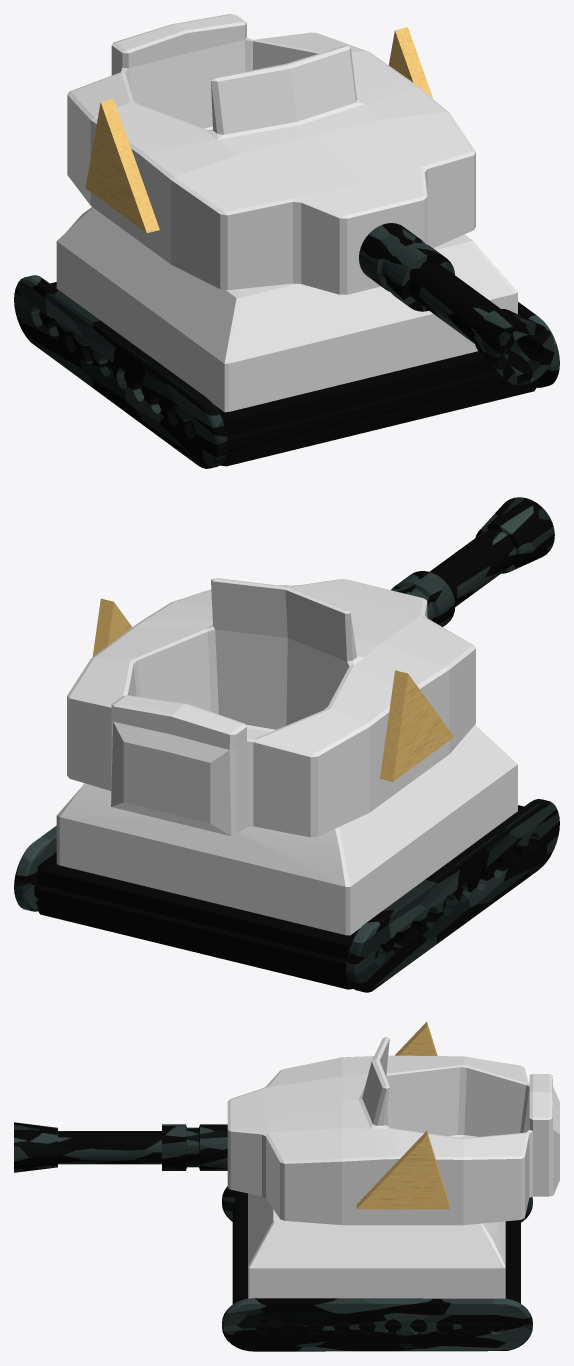
Rendered from SniperTankDrippy.fbx.
The picture shows the model from 3 angles, top to bottom: view 1: azimuth 30°, elevation 25°; view 2: azimuth 150°, elevation 25°; view 3: azimuth 270°, elevation 25°; orthographic projection. The views are drawn at different scales.
Parts seen in each view (by area): view 1: Turret, base, tracks, revolver, Barrel, Triangles; view 2: Turret, base, revolver, tracks, Barrel, Triangles; view 3: Turret, base, tracks, Barrel, Triangles, revolver.
Boxes of the visible parts, <box> form: Turret: <box>67,14,475,294</box>; base: <box>56,207,517,412</box>; tracks: <box>14,275,559,468</box>; revolver: <box>39,282,537,466</box>; Barrel: <box>359,223,554,385</box>; Triangles: <box>85,27,433,232</box>; Turret: <box>67,578,475,837</box>; base: <box>56,725,517,935</box>; revolver: <box>34,805,531,989</box>; tracks: <box>14,799,559,992</box>; Barrel: <box>391,497,554,626</box>; Triangles: <box>92,598,453,781</box>; Turret: <box>227,1037,559,1225</box>; base: <box>248,1193,505,1298</box>; tracks: <box>222,1186,532,1351</box>; Barrel: <box>14,1122,227,1172</box>; Triangles: <box>356,1022,449,1209</box>; revolver: <box>232,1192,520,1331</box>.
Size of the model in its own units: 938 by 783 by 1695.
6 materials, 3 textured.
